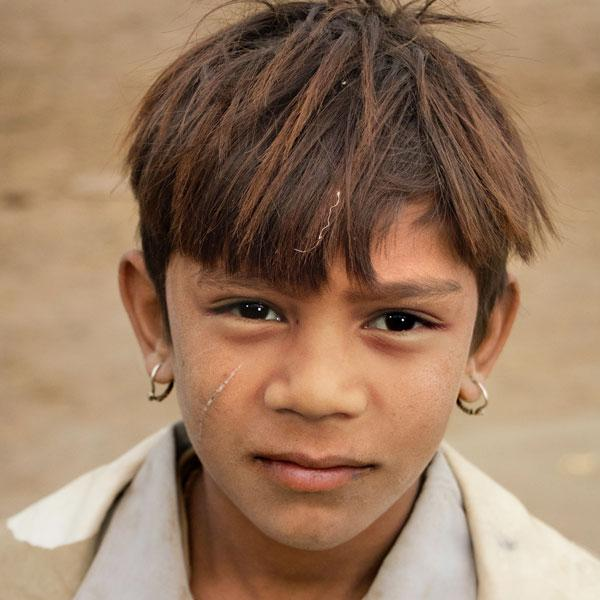Eyes: (348, 296, 455, 355), (196, 284, 291, 339)
